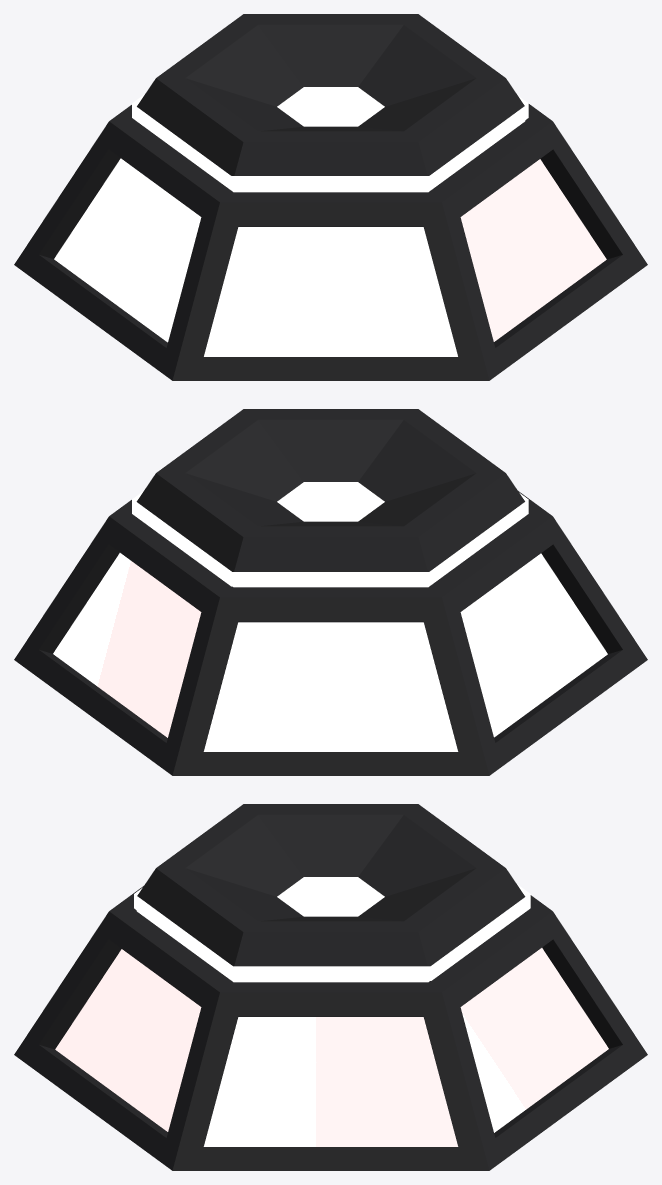
File: bypass10.fbx
3 renders of one model, top to bottom at view 1: azimuth 30°, elevation 25°; view 2: azimuth 150°, elevation 25°; view 3: azimuth 270°, elevation 25°, orthographic.
Parts seen in each view (by area): view 1: SciFI Props 1, neon (×2); view 2: SciFI Props 1, neon (×2); view 3: SciFI Props 1, neon (×2).
Boxes of the visible parts, left/top/right/bottom form: SciFI Props 1: left=14, top=14, right=647, bottom=380; neon (×2): left=54, top=94, right=606, bottom=356; SciFI Props 1: left=14, top=409, right=647, bottom=775; neon (×2): left=53, top=491, right=607, bottom=751; SciFI Props 1: left=14, top=804, right=647, bottom=1170; neon (×2): left=55, top=884, right=608, bottom=1146.
Bounding box in the file's own units: 136 × 51.18 × 157.
